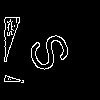S: (25, 25, 82, 76)
